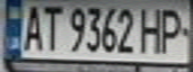2: (115, 2, 139, 54)
3: (84, 2, 103, 53)
6: (100, 2, 121, 54)
9: (63, 2, 87, 53)
A: (21, 1, 45, 52)
H: (136, 3, 166, 54)
P: (157, 3, 190, 54)
T: (39, 1, 63, 52)
